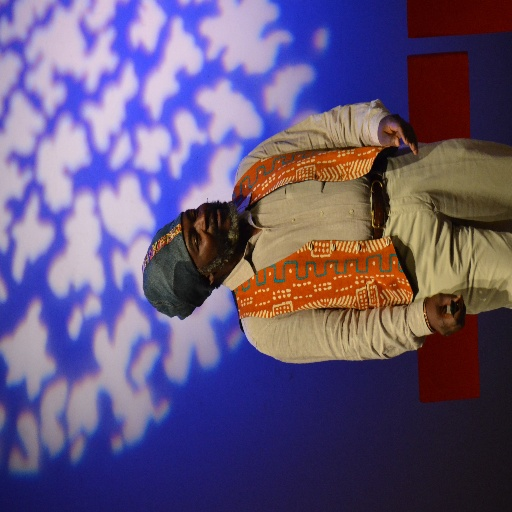hand: (426, 287, 472, 339), (376, 113, 418, 157)
